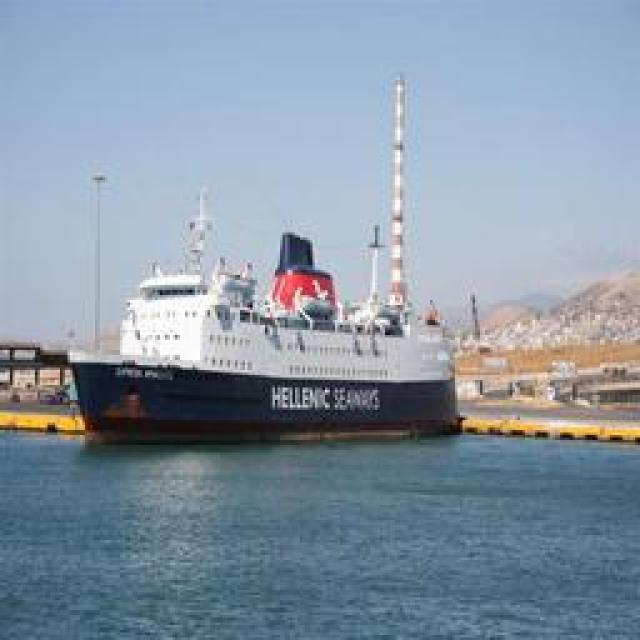ship: (65, 168, 463, 448)
